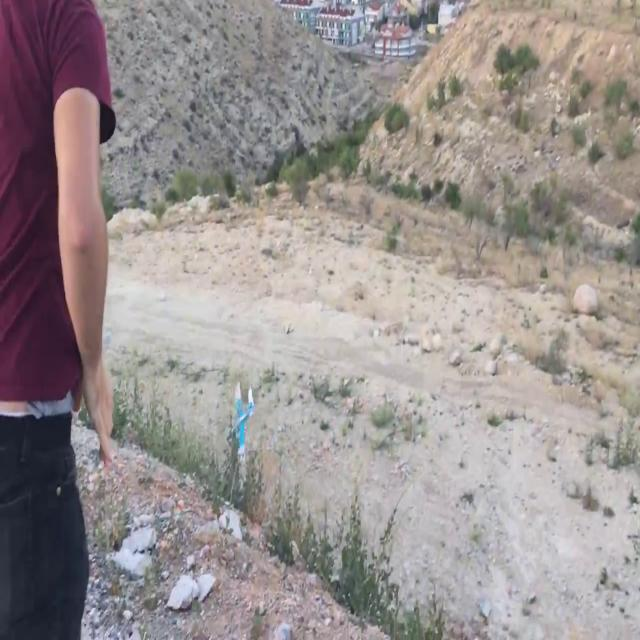iha: (226, 413, 254, 435)
